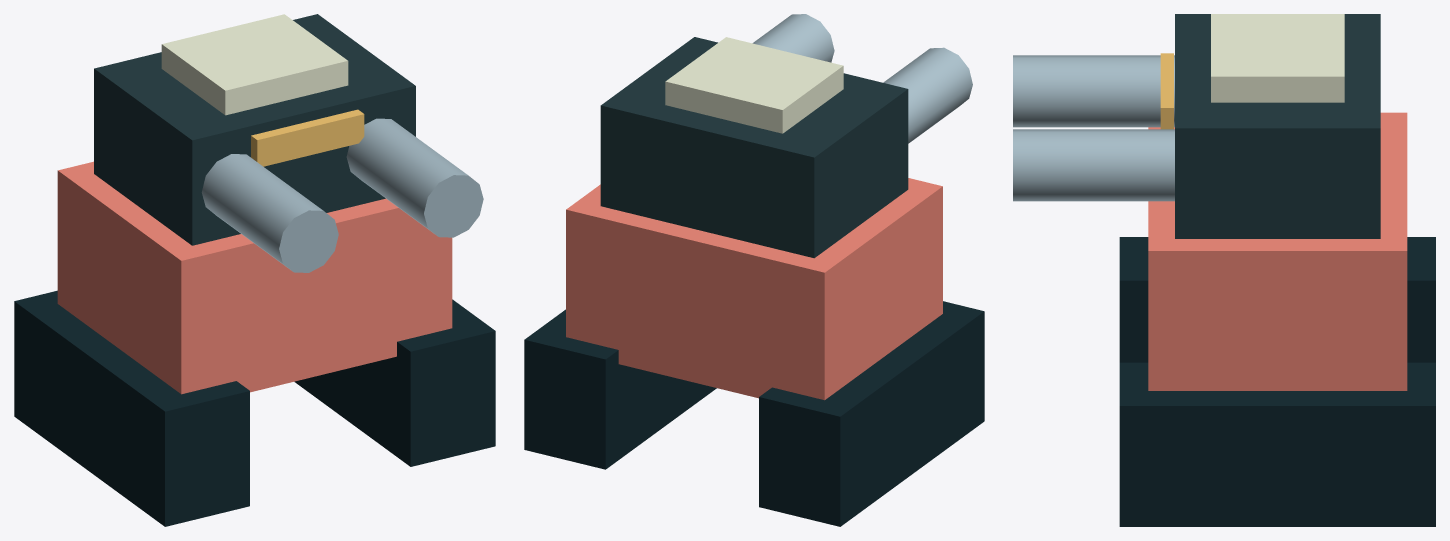
File: boss-sentry.glb
The picture shows the model from 3 angles, left to right: view 1: azimuth 30°, elevation 25°; view 2: azimuth 150°, elevation 25°; view 3: azimuth 270°, elevation 25°; orthographic projection. The views are drawn at different scales.
Visible parts, largest first — view 1: hull, tread--1, turret, tread-1, crest, barrel--1, barrel-1, visor; view 2: hull, turret, tread--1, tread-1, crest, barrel--1, barrel-1; view 3: tread-1, hull, turret, crest, barrel-1, barrel--1, tread--1, visor.
Boxes of the visible parts, x1,y1,x2,y2 form: hull: (57,161,452,394); tread--1: (14,290,249,526); turret: (94,14,415,245); tread-1: (294,299,495,466); crest: (161,14,348,115); barrel--1: (201,154,338,272); barrel-1: (346,118,483,237); visor: (251,109,364,166); hull: (566,178,942,400); turret: (600,37,908,258); tread--1: (759,301,984,526); tread-1: (524,309,716,469); crest: (665,37,843,133); barrel--1: (883,47,972,143); barrel-1: (752,14,834,62); tread-1: (1119,362,1435,526); hull: (1148,112,1407,390); turret: (1175,14,1380,238); crest: (1211,14,1344,102); barrel-1: (1013,129,1174,201); barrel--1: (1013,55,1174,127); tread--1: (1119,237,1435,362); visor: (1160,53,1173,129).
Bounding box in the file's own units: 1.05 × 1.15 × 1.11.
